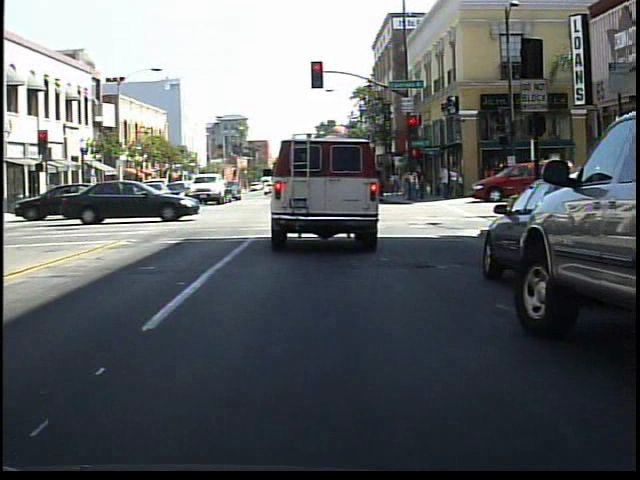person: (479, 161, 499, 198)
